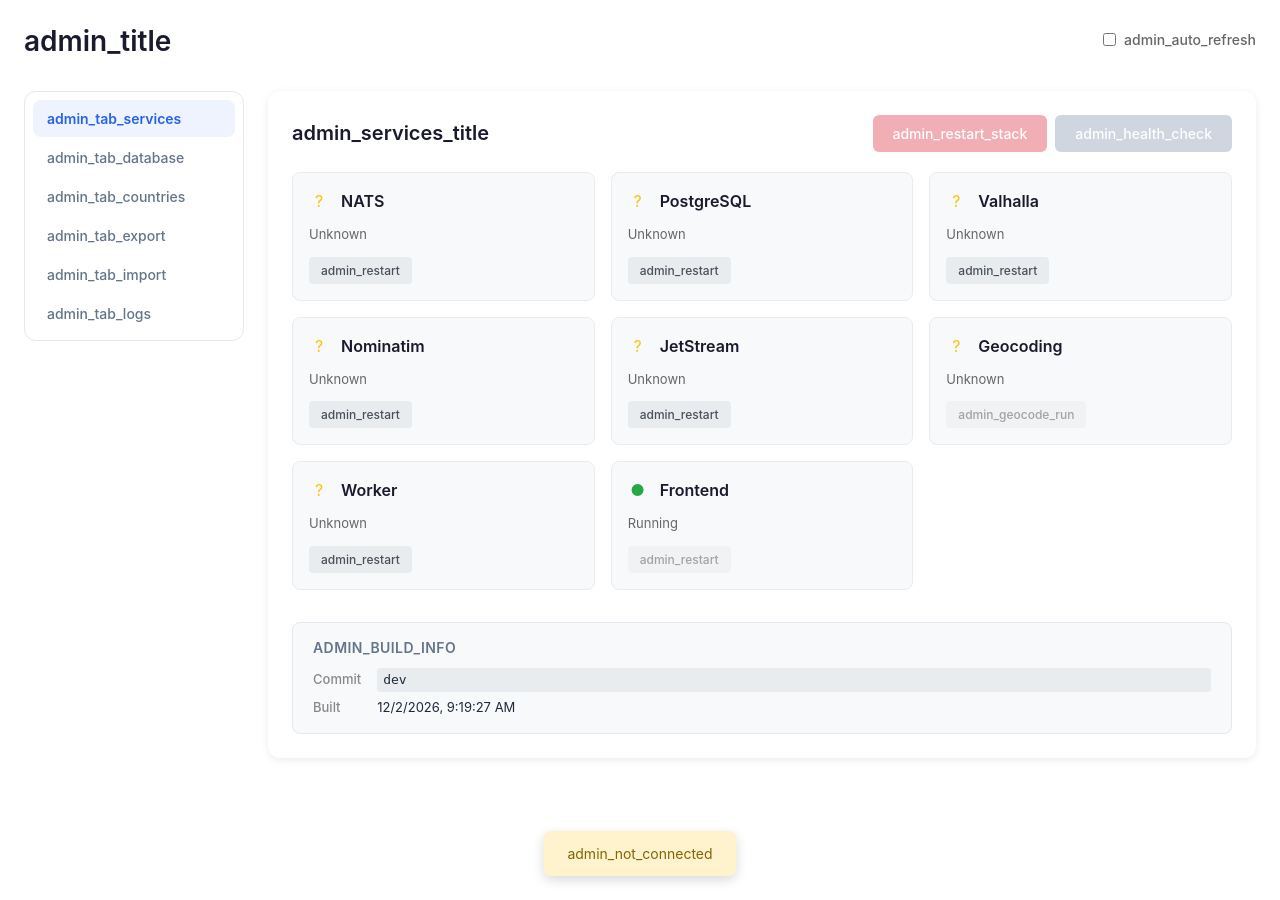
Test: Admin page — sidebar layout › switches to database section when clicking the tab
Click the button "admin_tab_database".
click(134, 158)  # box [33,139,235,176]
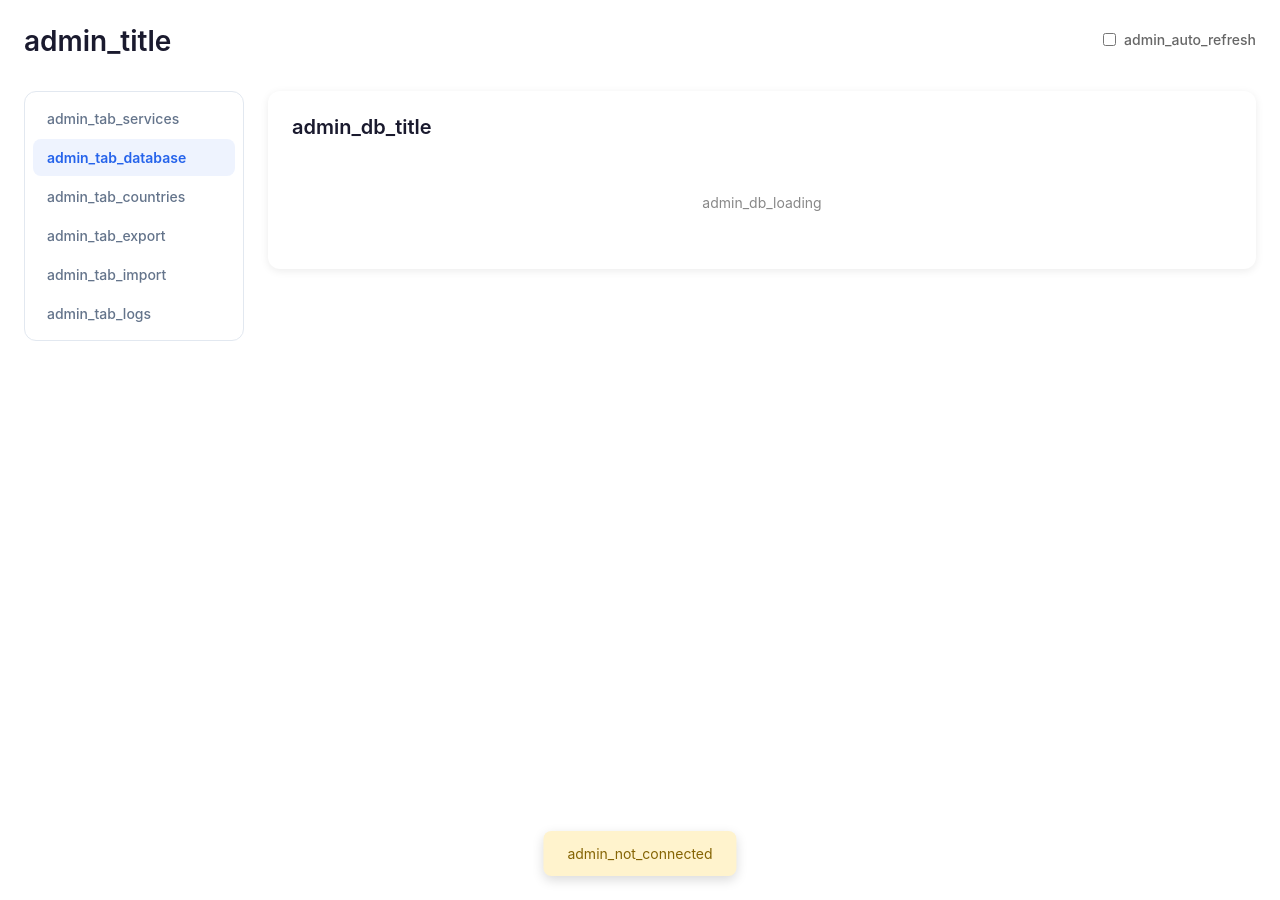
expect the heading "admin_db_title" is shown: met, box [292,115,432,140]
expect the heading "admin_services_title" is gone: met
